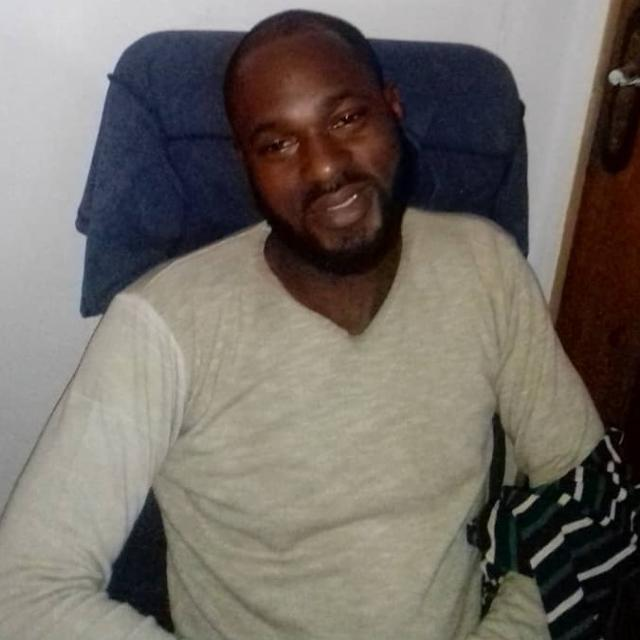happy: (218, 8, 414, 268)
